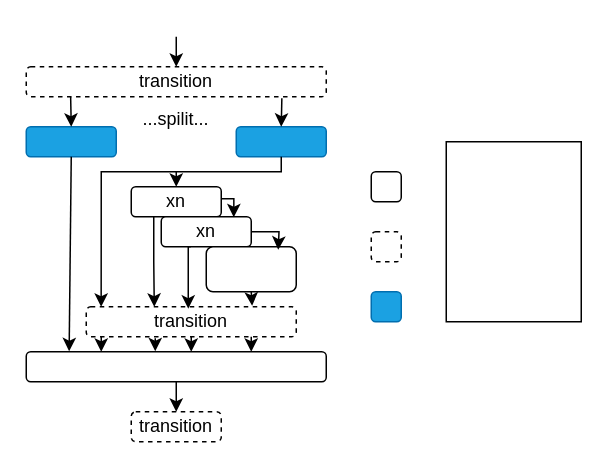
Some shapes in this 609 by 468 pixel diagram are drawn without their labels. Here are the shapes that lost their labels. From the top down, the box of each, then its label:
(445, 140, 581, 322): module module （optional） partition
(205, 245, 296, 292): any block xn
(25, 350, 326, 382): concatenation
